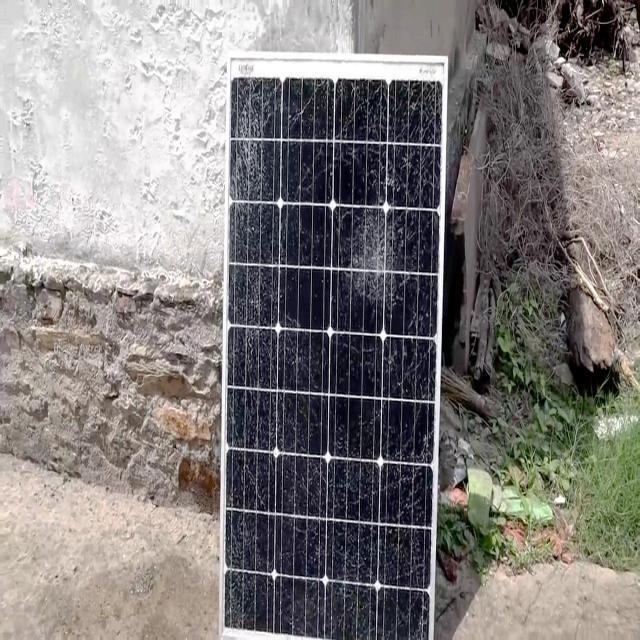faulty: (222, 55, 437, 637)
